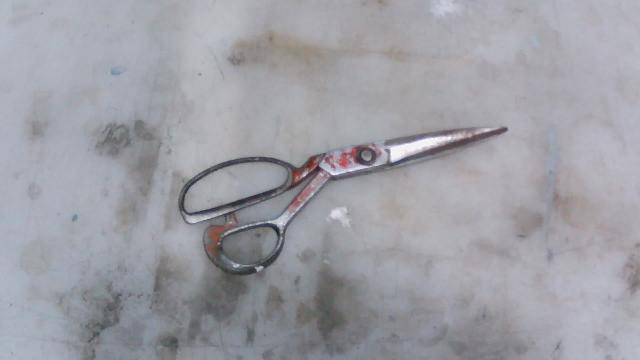gunting: (169, 122, 521, 278)
